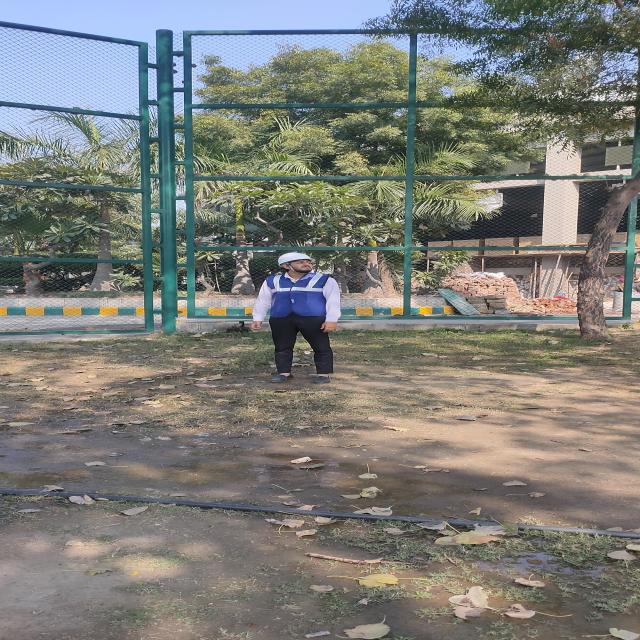safe: (263, 252, 340, 384)
